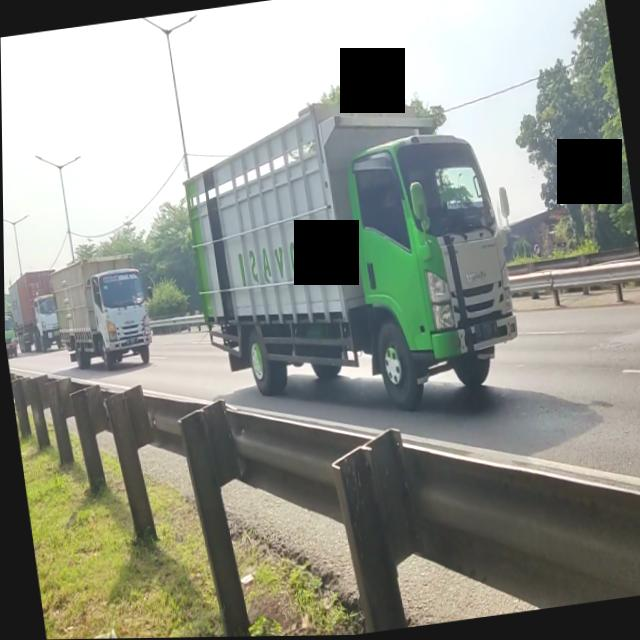Golongan II: (172, 103, 527, 442), (46, 246, 157, 378)
